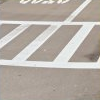crosswalk: (0, 21, 99, 64)
